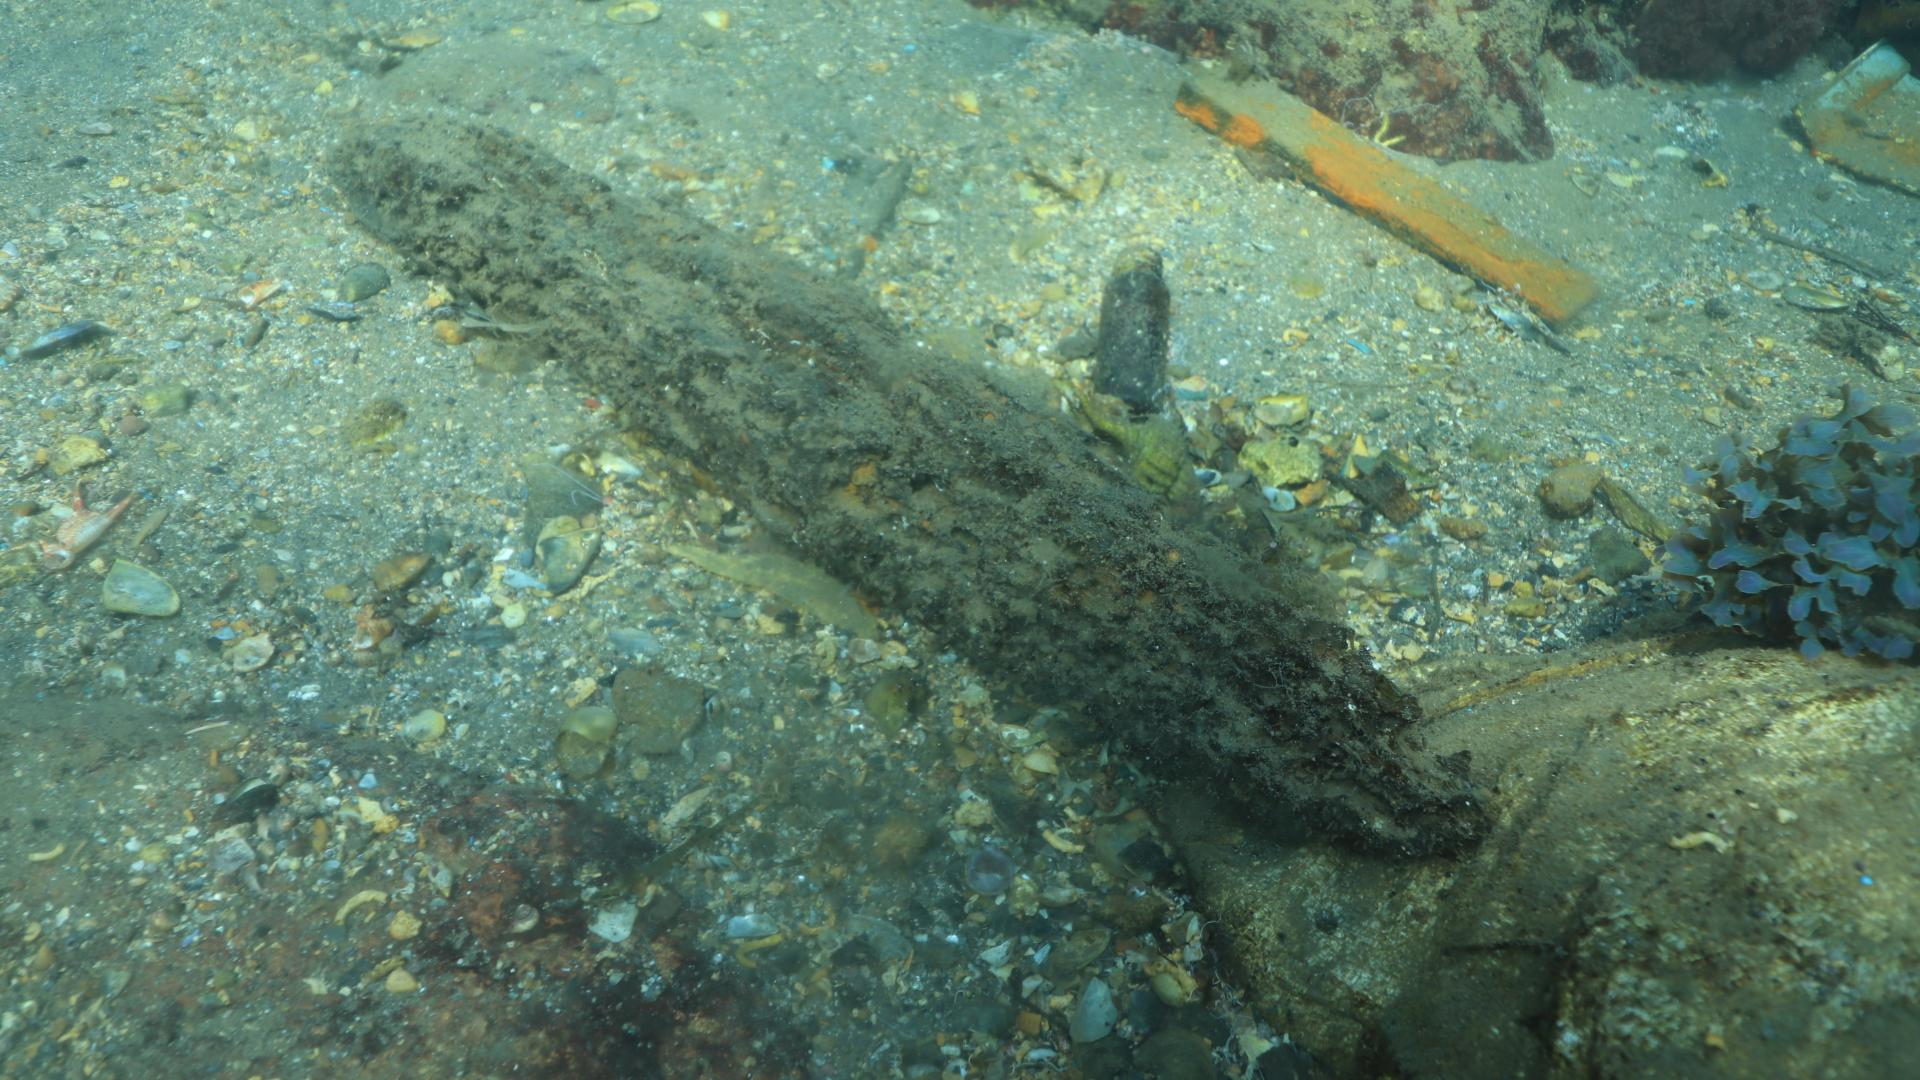wood: (327, 111, 1495, 861), (1175, 70, 1604, 331)
